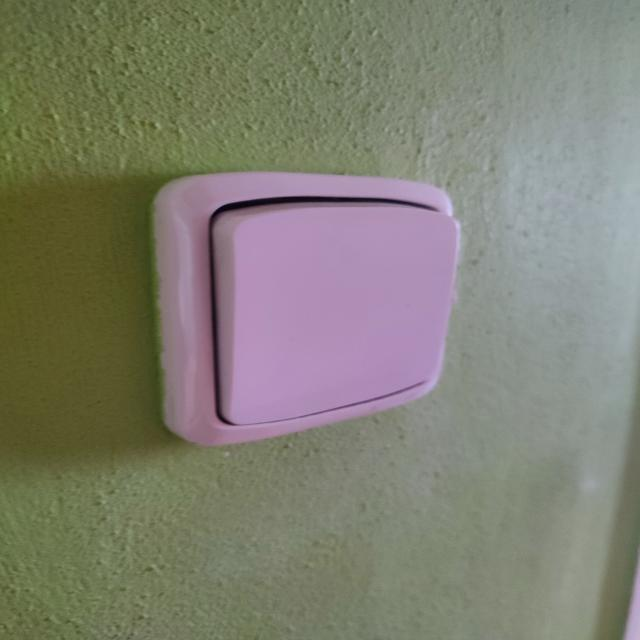house switch: (154, 171, 460, 447)
